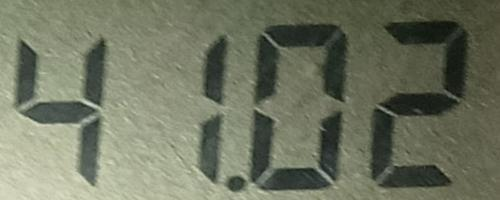.: (224, 173, 245, 196)
